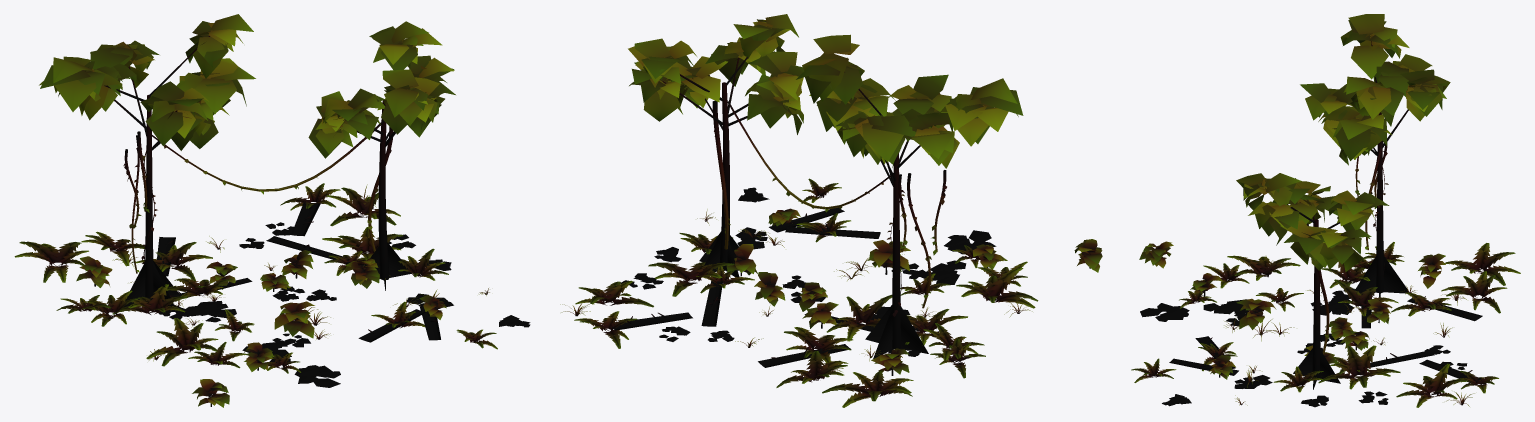
The model's file is patch_deadfall.glb.
The picture shows the model from 3 angles, left to right: view 1: azimuth 30°, elevation 25°; view 2: azimuth 150°, elevation 25°; view 3: azimuth 270°, elevation 25°; orthographic projection. The views are drawn at different scales.
Visible parts, largest first — view 1: patch_deadfall; view 2: patch_deadfall; view 3: patch_deadfall.
Boxes of the visible parts, bbox=[...] form: patch_deadfall: bbox=[14, 14, 530, 407]; patch_deadfall: bbox=[560, 14, 1102, 407]; patch_deadfall: bbox=[1131, 14, 1520, 407].
Bounding box in the file's own units: 18.83 × 12.52 × 18.06.
Materials: 1 (1 with a texture image).
